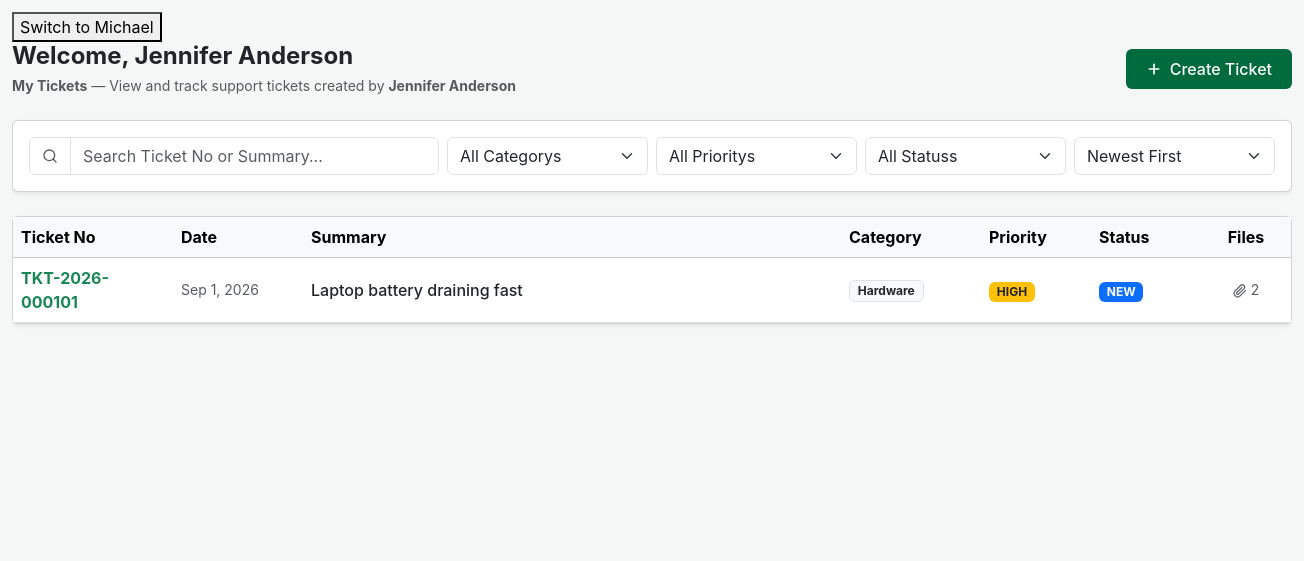
Test: MyTicketsView Component (Issue 11) › renders no-results state when search/filter returns 0 items and clears filters on click
Type "NonExistentTerm" into the field with test id "search-input". click: (254, 156)
box: [70,137,439,175]
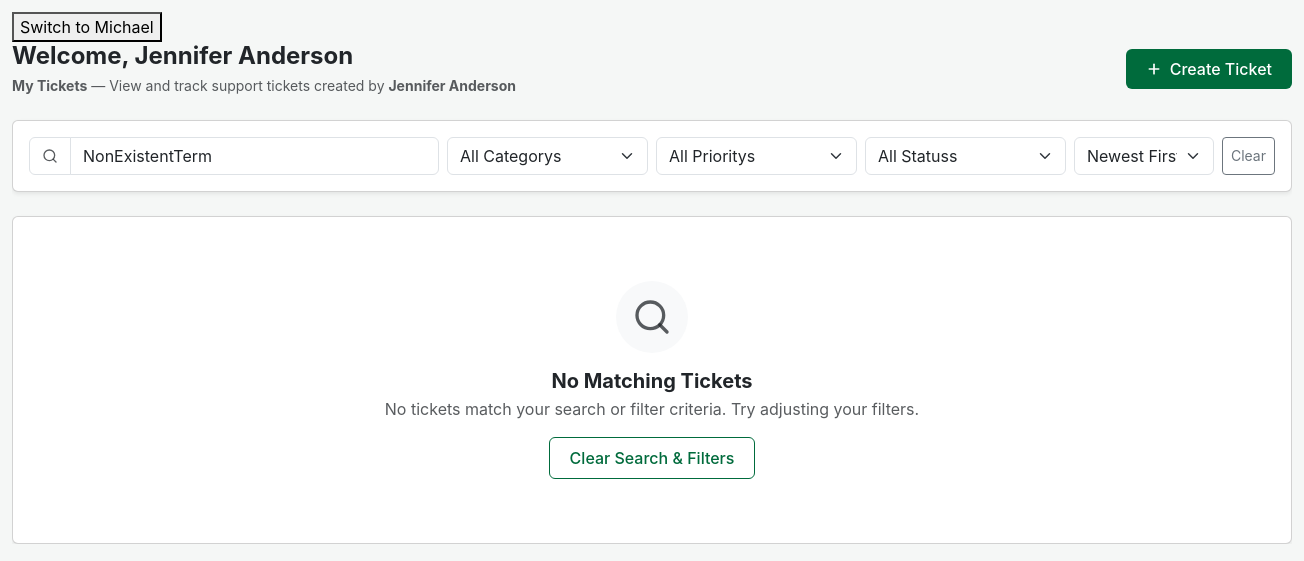
Result: the element with test id "no-results-state" is shown at [12,216,1292,544]
Result: the heading "No Matching Tickets" is shown at [552,369,753,393]
Click the button with test id "no-results-clear-btn". click: (652, 458)
box: [549,437,755,479]
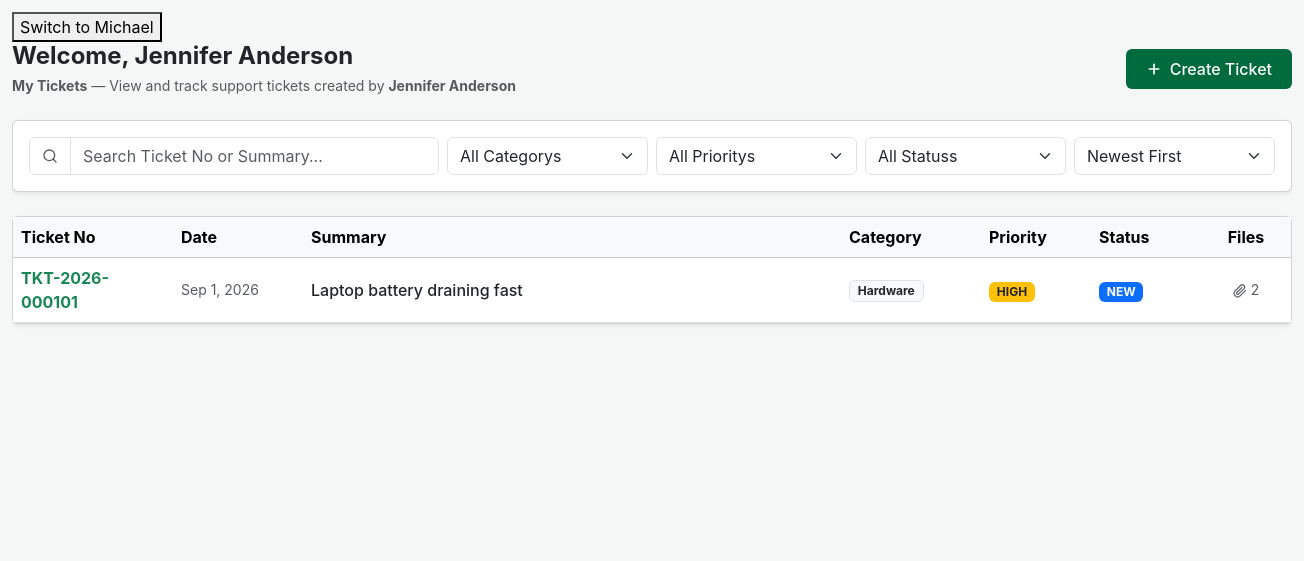
Result: the field with test id "search-input" is empty at [70,137,439,175]
